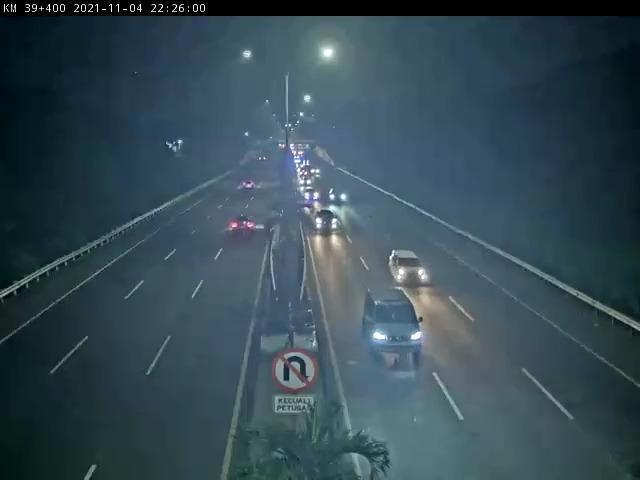car: (360, 290, 423, 361), (393, 249, 430, 289), (314, 212, 340, 231), (232, 218, 254, 234), (329, 188, 350, 203), (307, 187, 320, 200), (246, 180, 257, 188), (302, 180, 313, 186), (313, 170, 322, 176)
